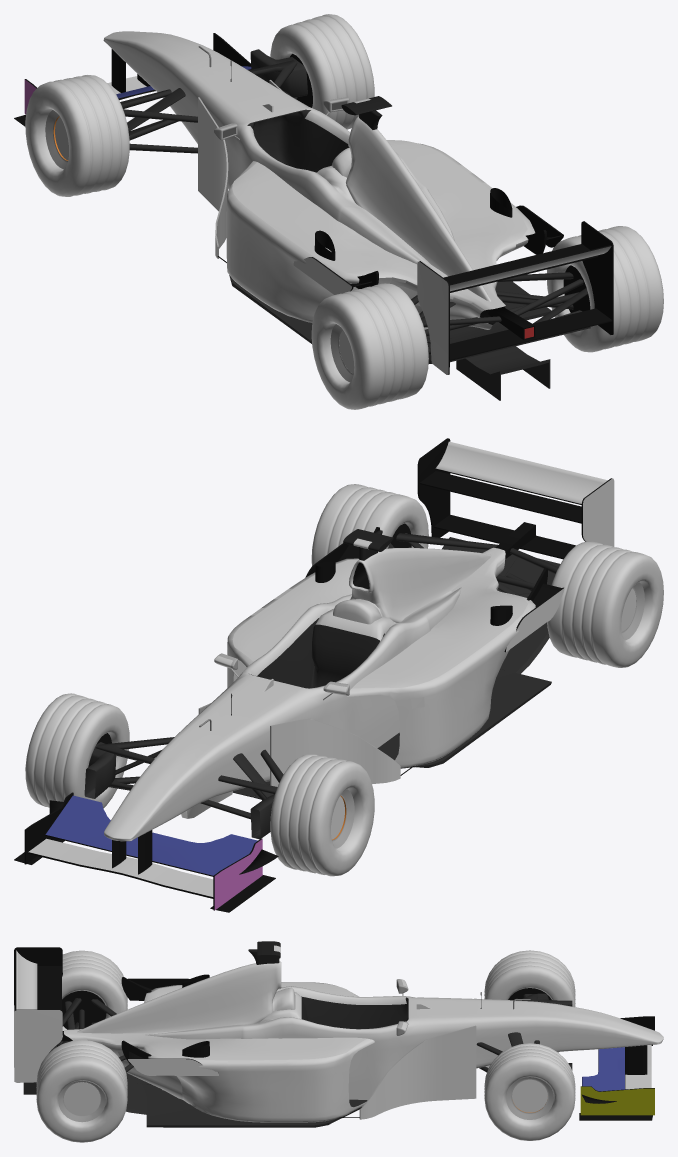
The model's file is Car2.obj.
3 renders of one model, top to bottom at view 1: azimuth 30°, elevation 25°; view 2: azimuth 150°, elevation 25°; view 3: azimuth 270°, elevation 25°, orthographic. The views are drawn at different scales.
Visible parts, largest first — view 1: Mesh.001; view 2: Mesh.001; view 3: Mesh.001.
Part boxes in pixels (x1,y1,x2,y2): Mesh.001: [14, 14, 663, 409]; Mesh.001: [14, 438, 663, 912]; Mesh.001: [14, 941, 663, 1142].
Size of the model in its own units: 2.58 by 1.46 by 6.16.
